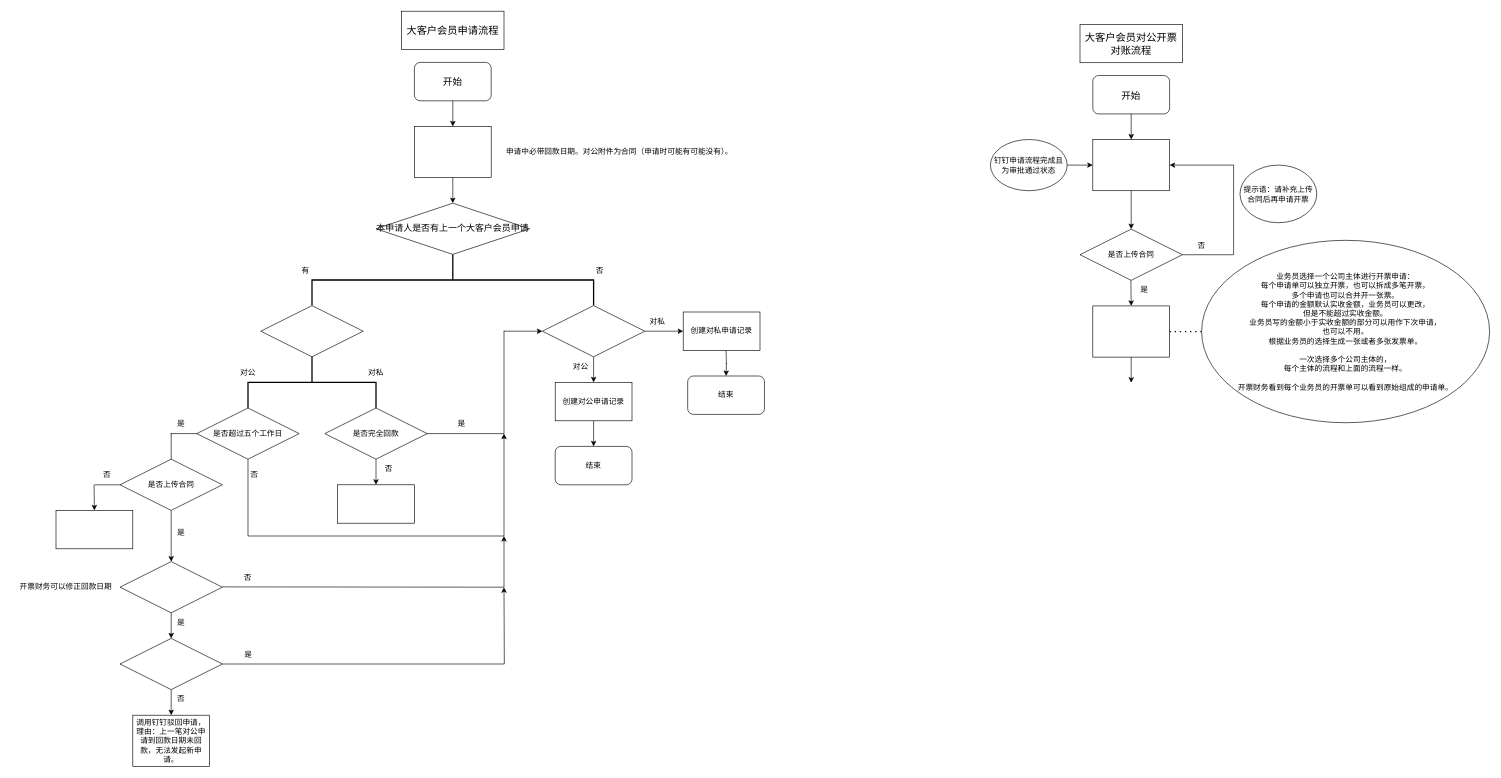
This 1501x778 diagram has some shape labels left out. The box of each missing label's shape, as (x1, y1, x2, y2) in pixels:
上一个申请是对公还是对私: (260, 305, 363, 357)
业务员-开票编辑界面: (1092, 305, 1170, 357)
业务员-选择申请（支持单选/多选）-申请开票: (1092, 139, 1170, 191)
对公还是对私: (542, 305, 645, 357)
接收到钉钉大客户会员申请: (414, 126, 491, 178)
是否到回款日期: (119, 561, 222, 613)
是否已回款: (119, 638, 222, 690)
调用钉钉驳回申请，理由：上一笔对公申请未上传合同，请上传后再发起新申请。: (55, 510, 133, 549)
调用钉钉驳回申请，理由：上一笔对私申请未完全回款，无法发起新申请。: (337, 484, 414, 523)
